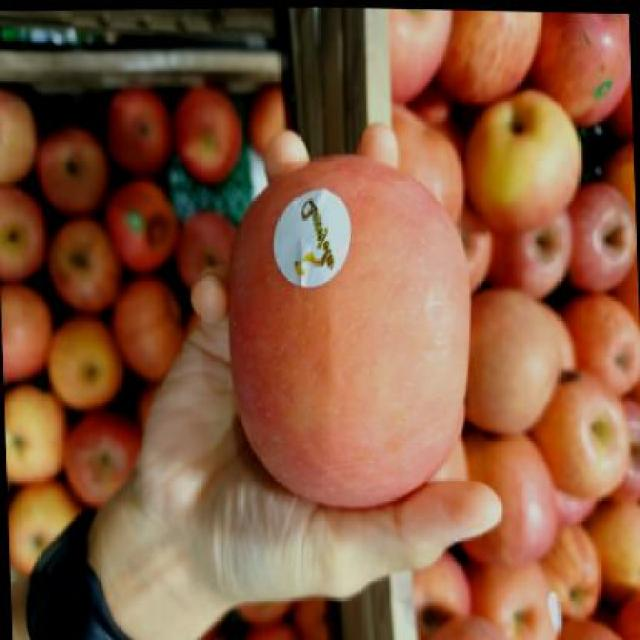Fresh Apple: (215, 164, 470, 516), (461, 93, 583, 240), (477, 289, 569, 432), (548, 374, 632, 501), (472, 445, 556, 564), (168, 91, 253, 188), (46, 222, 127, 320), (110, 286, 187, 388), (108, 176, 180, 282), (44, 318, 118, 415), (569, 294, 640, 391), (36, 130, 113, 217), (4, 383, 64, 489), (579, 193, 640, 289)
